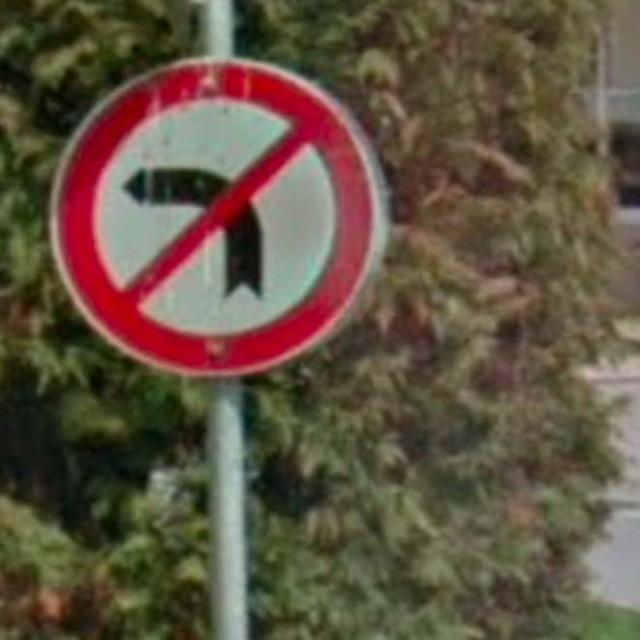soladonulmez: (49, 55, 378, 375)
